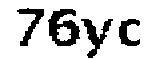6: (47, 6, 80, 50)
7: (14, 5, 45, 54)
c: (117, 18, 144, 51)
y: (80, 16, 114, 60)
